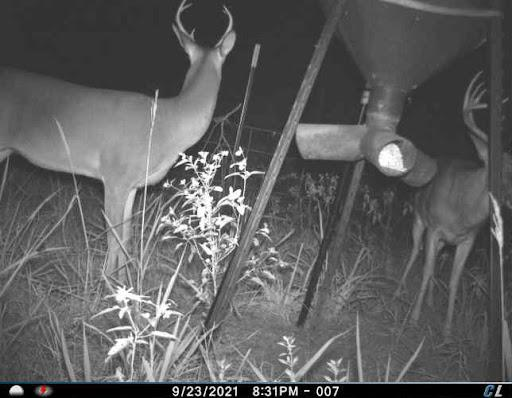Deer: (0, 0, 229, 312), (412, 65, 512, 342)
